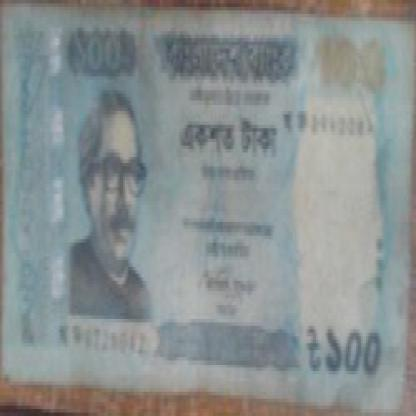one hundred taka: (310, 31, 388, 97), (323, 319, 388, 381), (67, 21, 128, 76)
